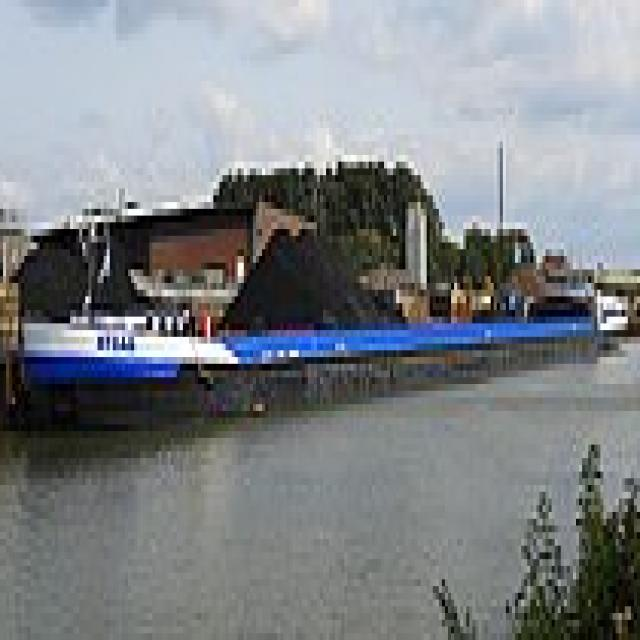Cargo: (18, 263, 634, 451)
